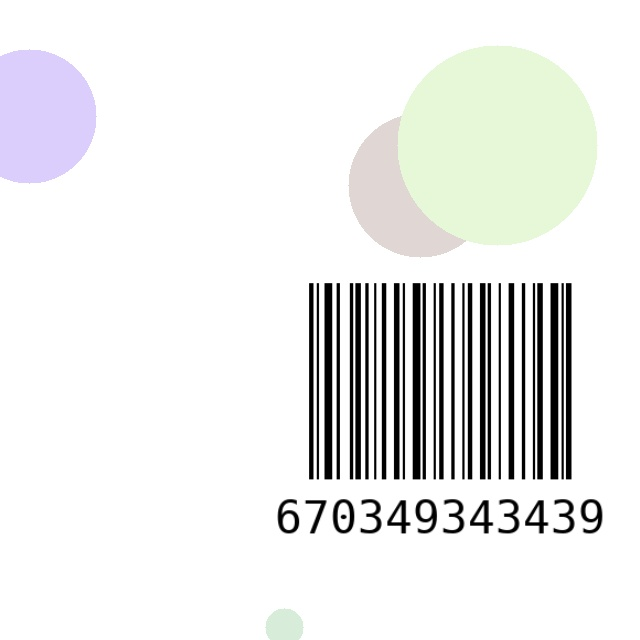barcode: (276, 271, 605, 580)
